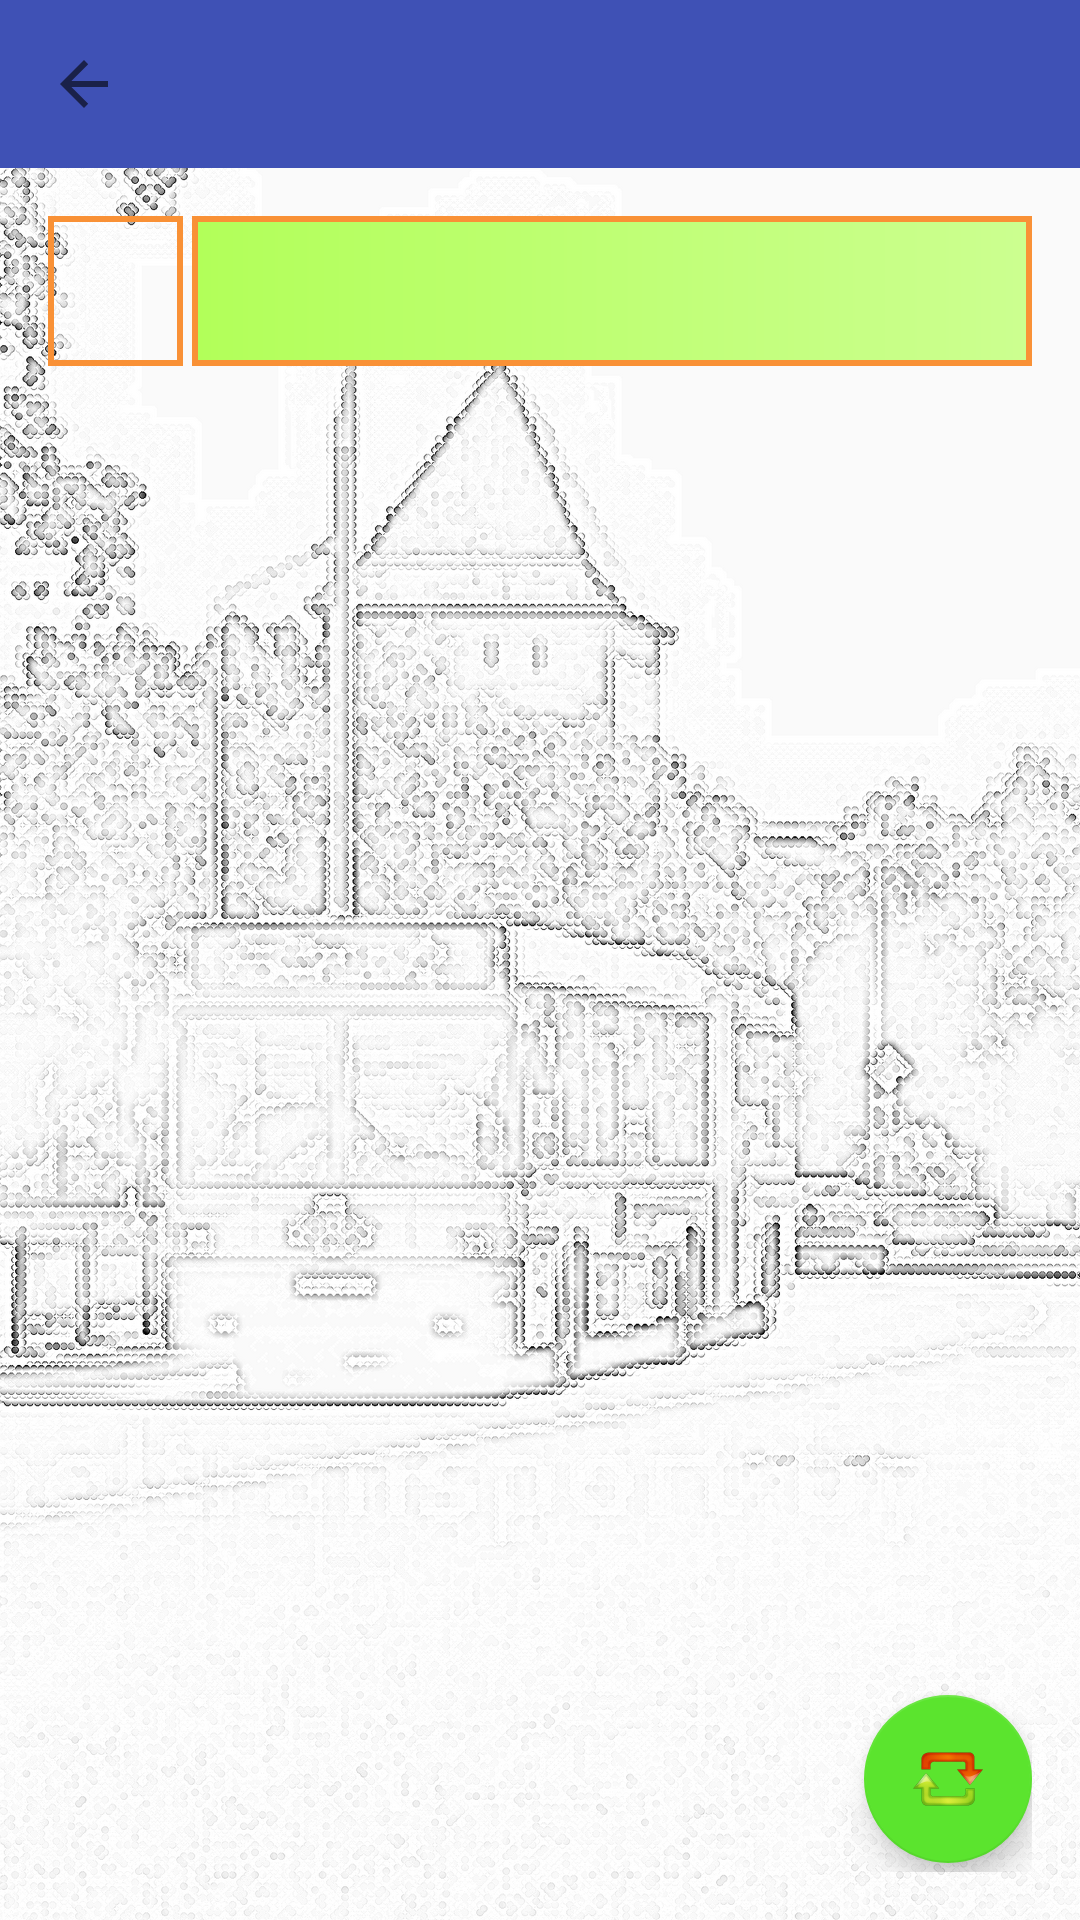

Screen size 1080px×1920px. Icon name, then its center in pixels as [x,y]:
reverse: [948,1779]
